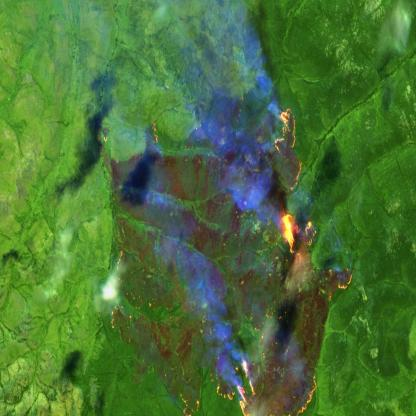fire: (102, 105, 356, 416)
